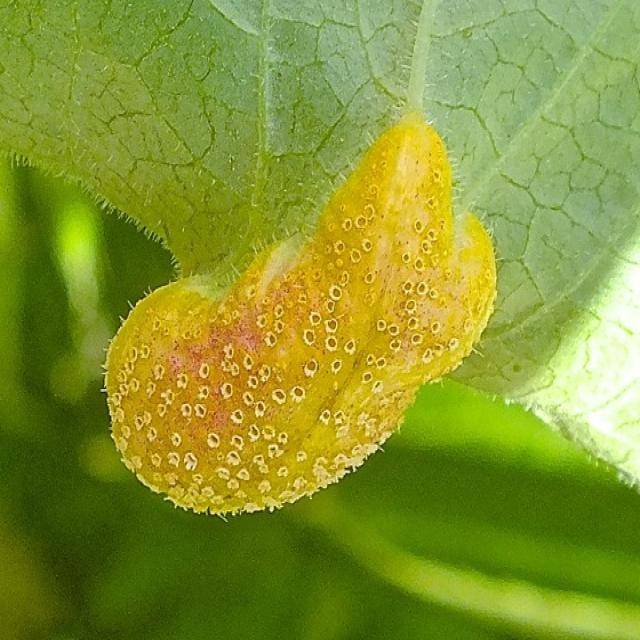Elderberry_rust: (93, 132, 541, 520)
